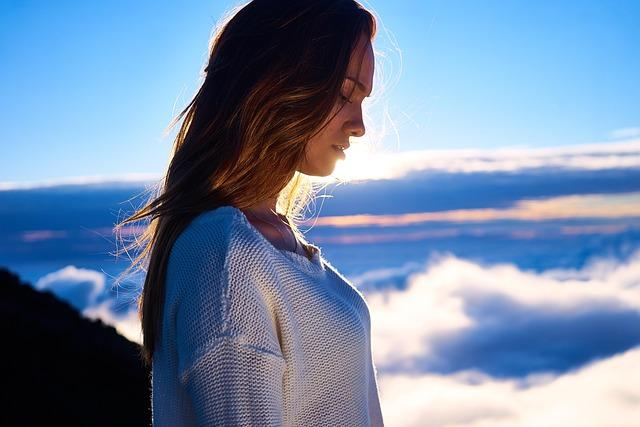Non_Gorille: (153, 0, 448, 427)
